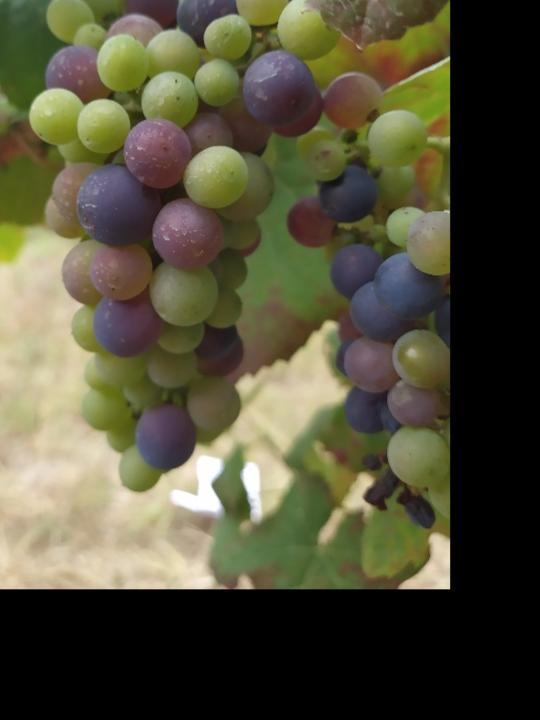grape: (26, 0, 344, 494)
